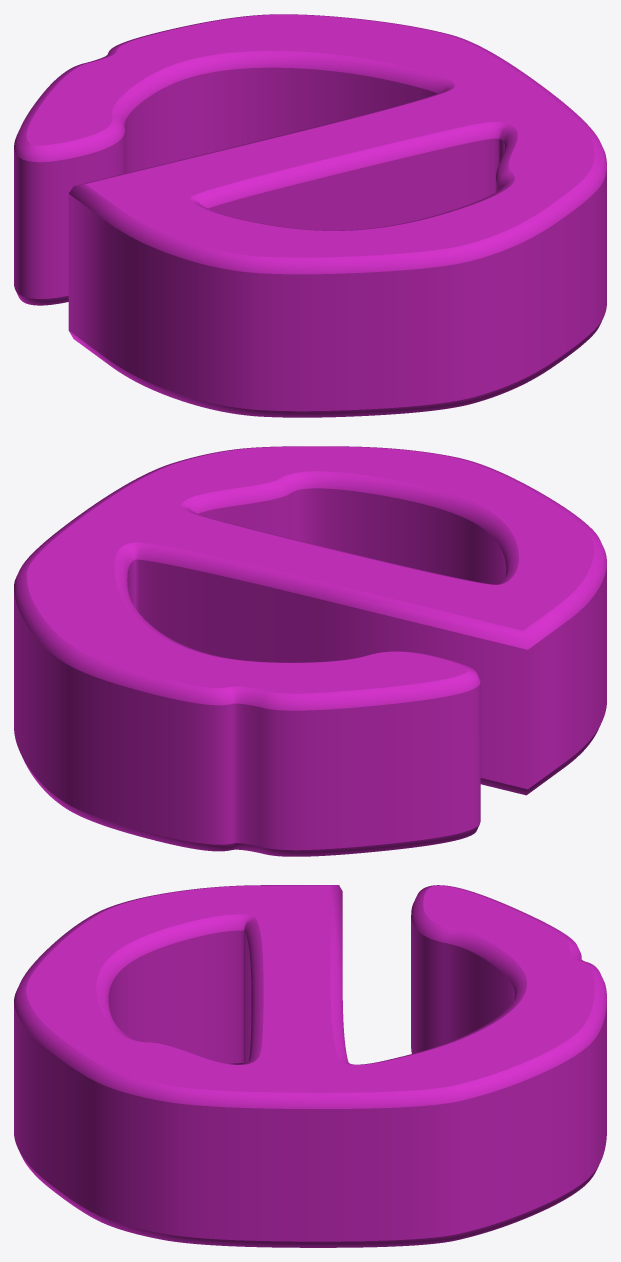
Rendered from Blocky_Letter_e.fbx.
The picture shows the model from 3 angles, top to bottom: view 1: azimuth 30°, elevation 25°; view 2: azimuth 150°, elevation 25°; view 3: azimuth 270°, elevation 25°; orthographic projection. The views are drawn at different scales.
Parts seen in each view (by area): view 1: BlockyLetter_e; view 2: BlockyLetter_e; view 3: BlockyLetter_e.
Part boxes in pixels (x1=…): BlockyLetter_e: x1=14, y1=14, x2=606, y2=417; BlockyLetter_e: x1=14, y1=446, x2=606, y2=856; BlockyLetter_e: x1=14, y1=885, x2=606, y2=1247.
Bounding box in the file's own units: 0.4226 × 0.14 × 0.4866.
